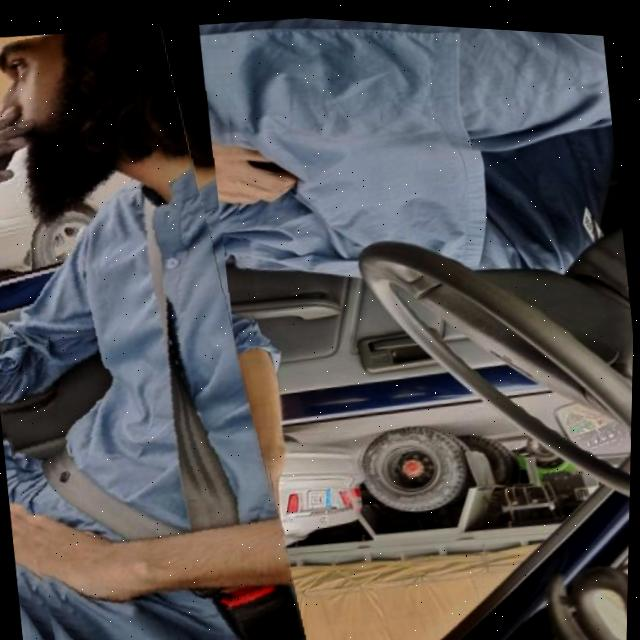seatbelt: (0, 9, 305, 640)
